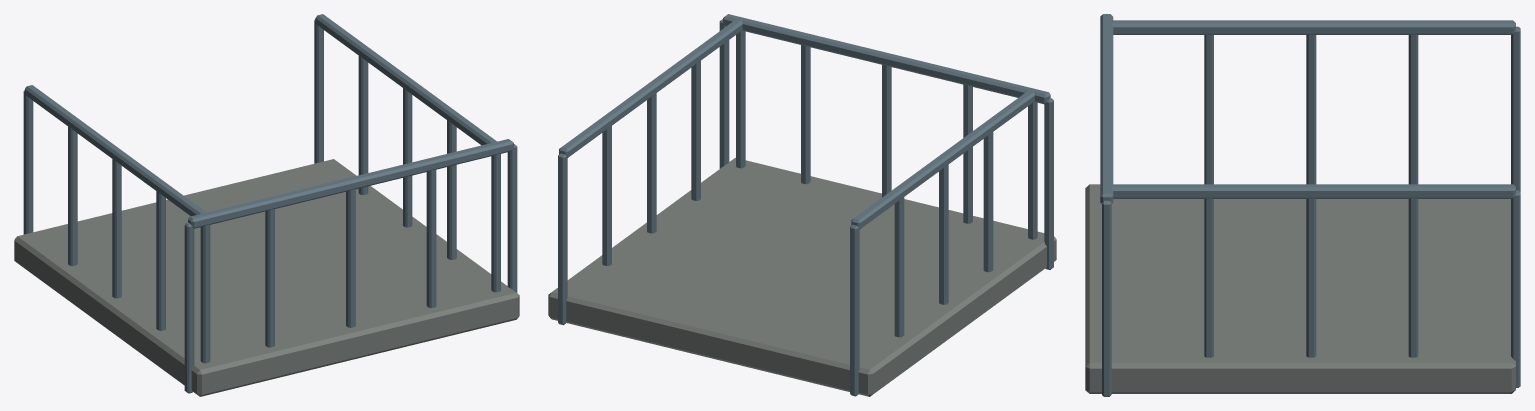
Rendered from architecture-city-balcony.lod0.glb.
3 views of the same model, side by side, from view 1: azimuth 30°, elevation 25°; view 2: azimuth 150°, elevation 25°; view 3: azimuth 270°, elevation 25° (orthographic). The views are drawn at different scales.
Parts seen in each view (by area): view 1: architecture-city-balcony__body; view 2: architecture-city-balcony__body; view 3: architecture-city-balcony__body.
Boxes of the visible parts, bbox=[...] form: architecture-city-balcony__body: bbox=[14, 14, 519, 396]; architecture-city-balcony__body: bbox=[548, 14, 1056, 396]; architecture-city-balcony__body: bbox=[1085, 14, 1520, 396].
Size of the model in its own units: 2.05 by 1.03 by 2.02.
